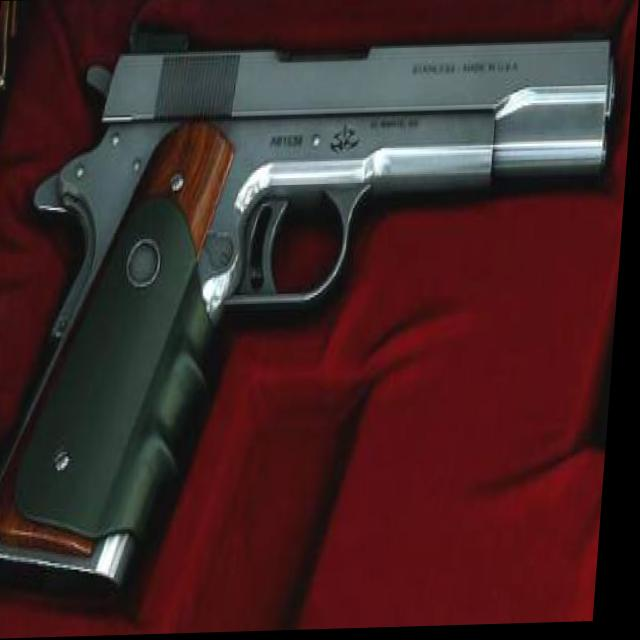handgun: (0, 15, 622, 610)
